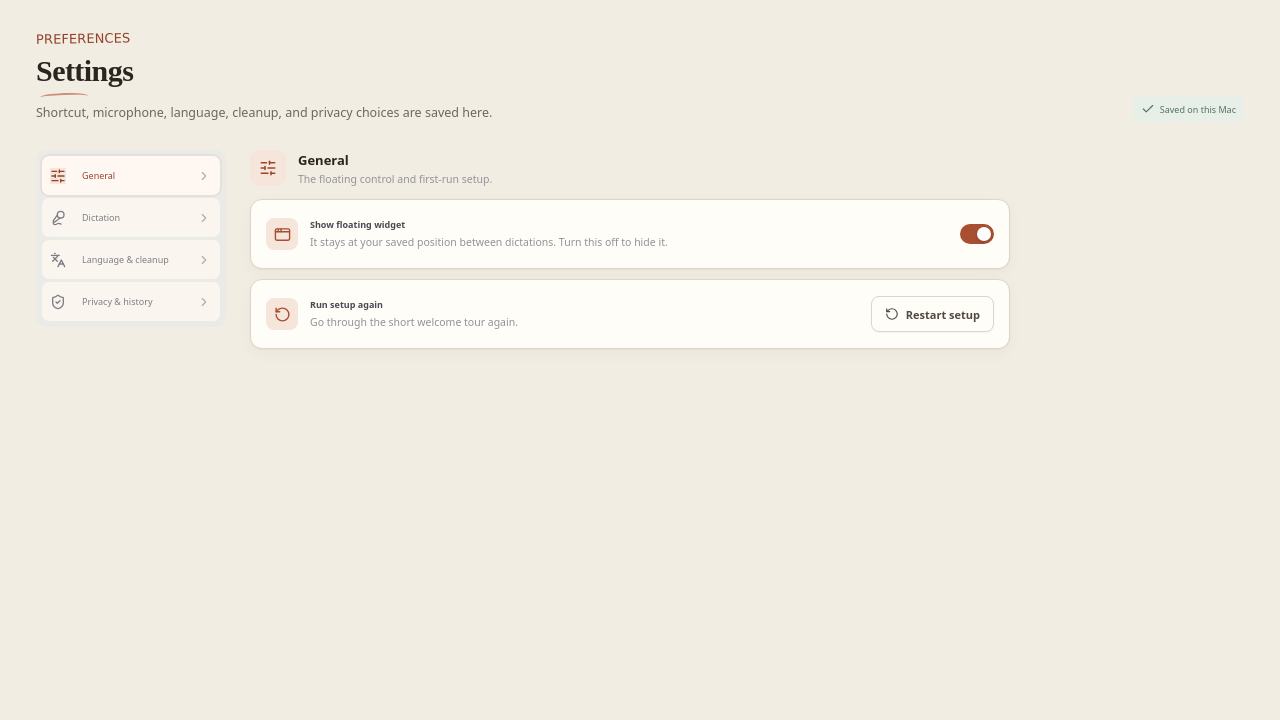
Test: shortcut settings › keeps recording after an invalid chord and cancels with Escape
The image size is (1280, 720).
Step 1. Click the button "Dictation" → click(131, 218), box [42,198,220,237]
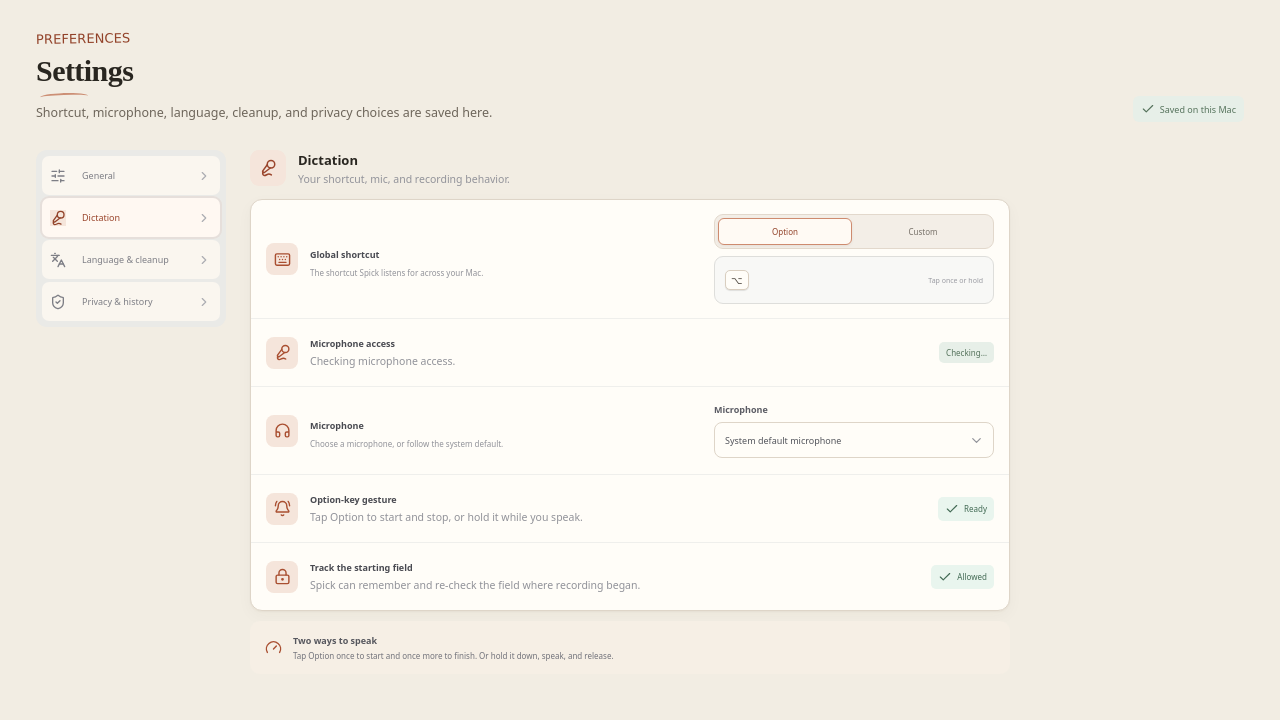
Step 2. Click the button with aria-label "Record a custom shortcut" → click(956, 280), box [714,256,994,304]
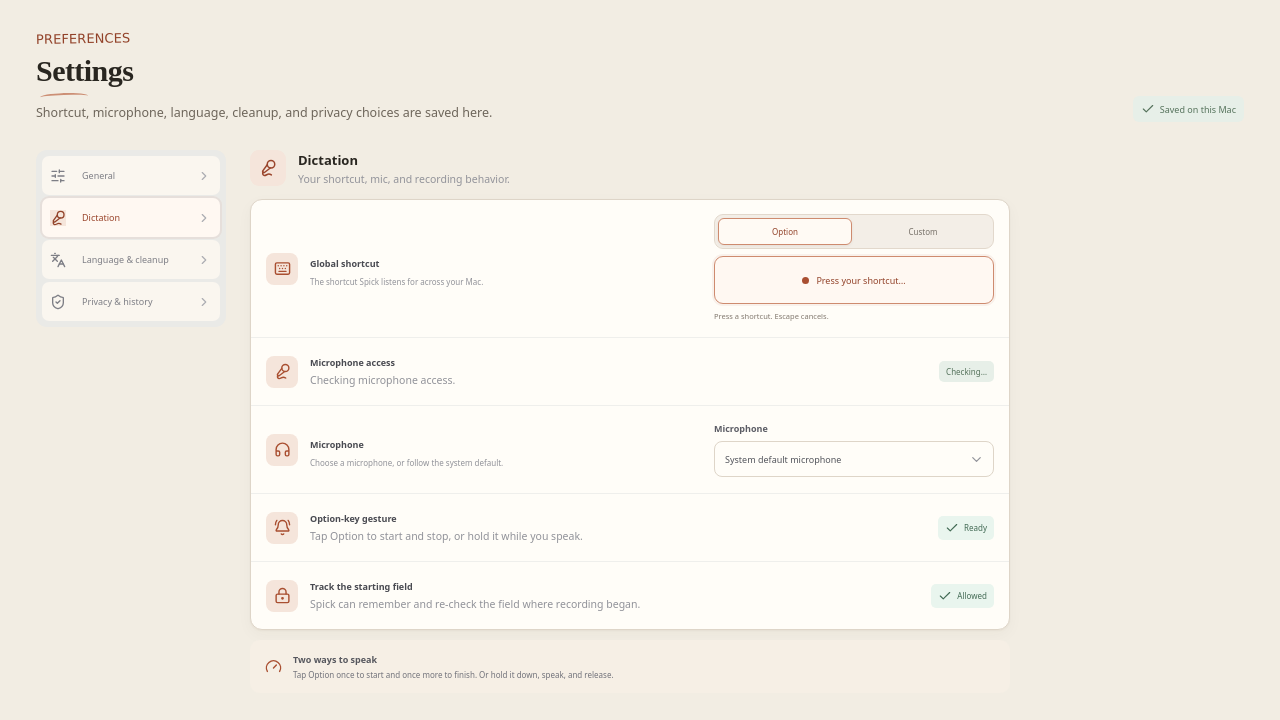
Step 3. Press D
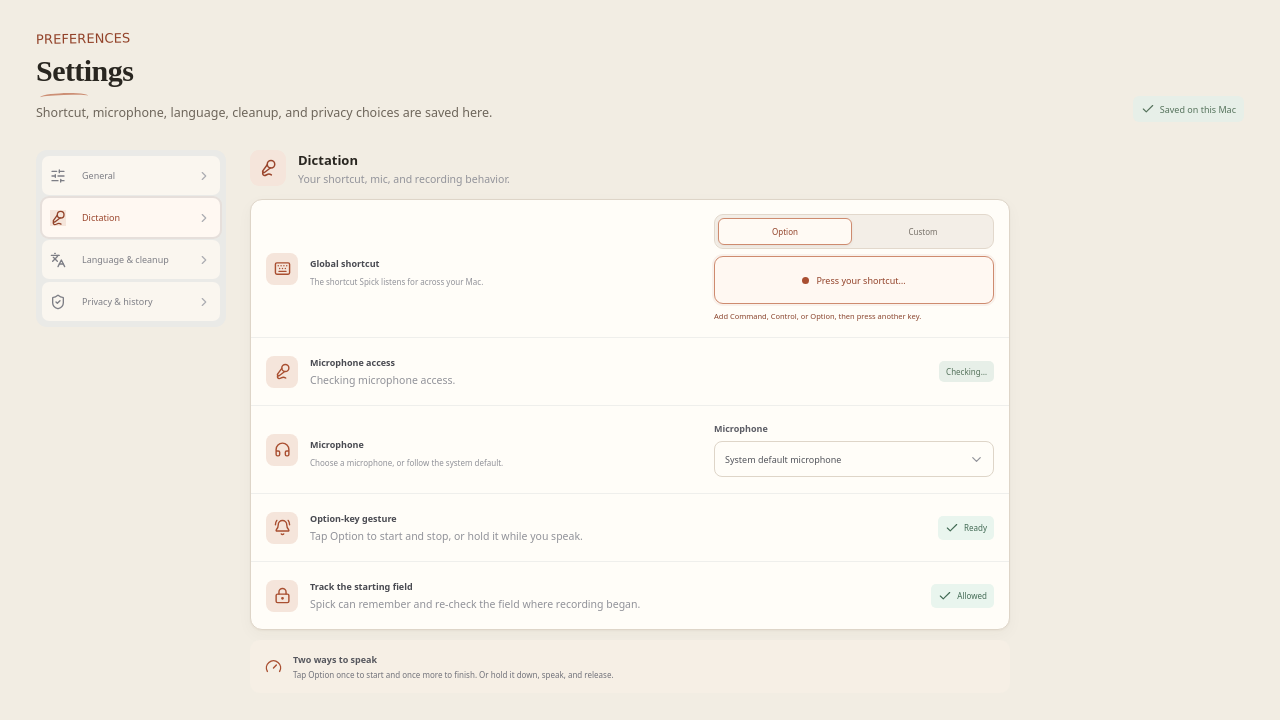
expect the button with aria-label "Recording shortcut" is shown: met, box [714,256,994,304]
expect the text "Add Command, Control, or Option, then press another key." is shown: met, box [714,311,921,321]
Step 4. Press Escape
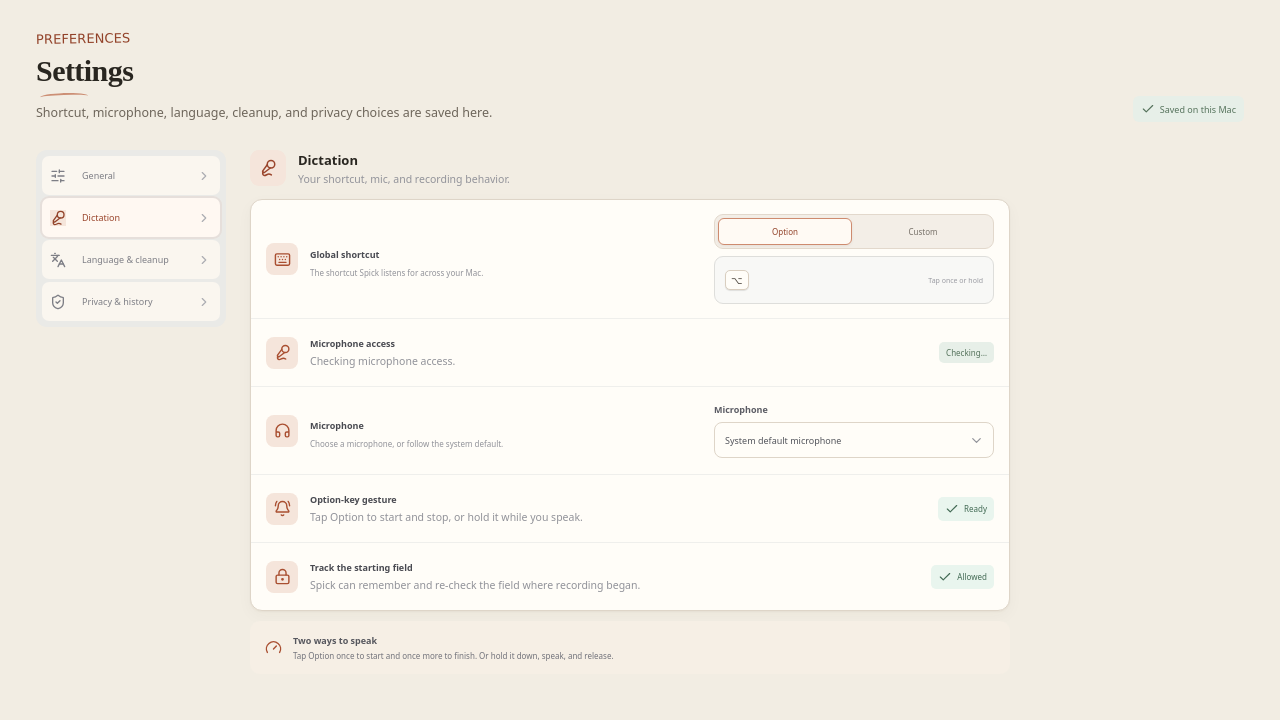
expect the element named "Shortcut ⌥" is shown: met, box [725,270,748,290]
